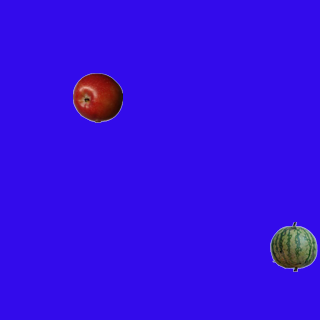Apple Braeburn: (72, 72, 122, 122)
Watermelon: (268, 221, 318, 271)
